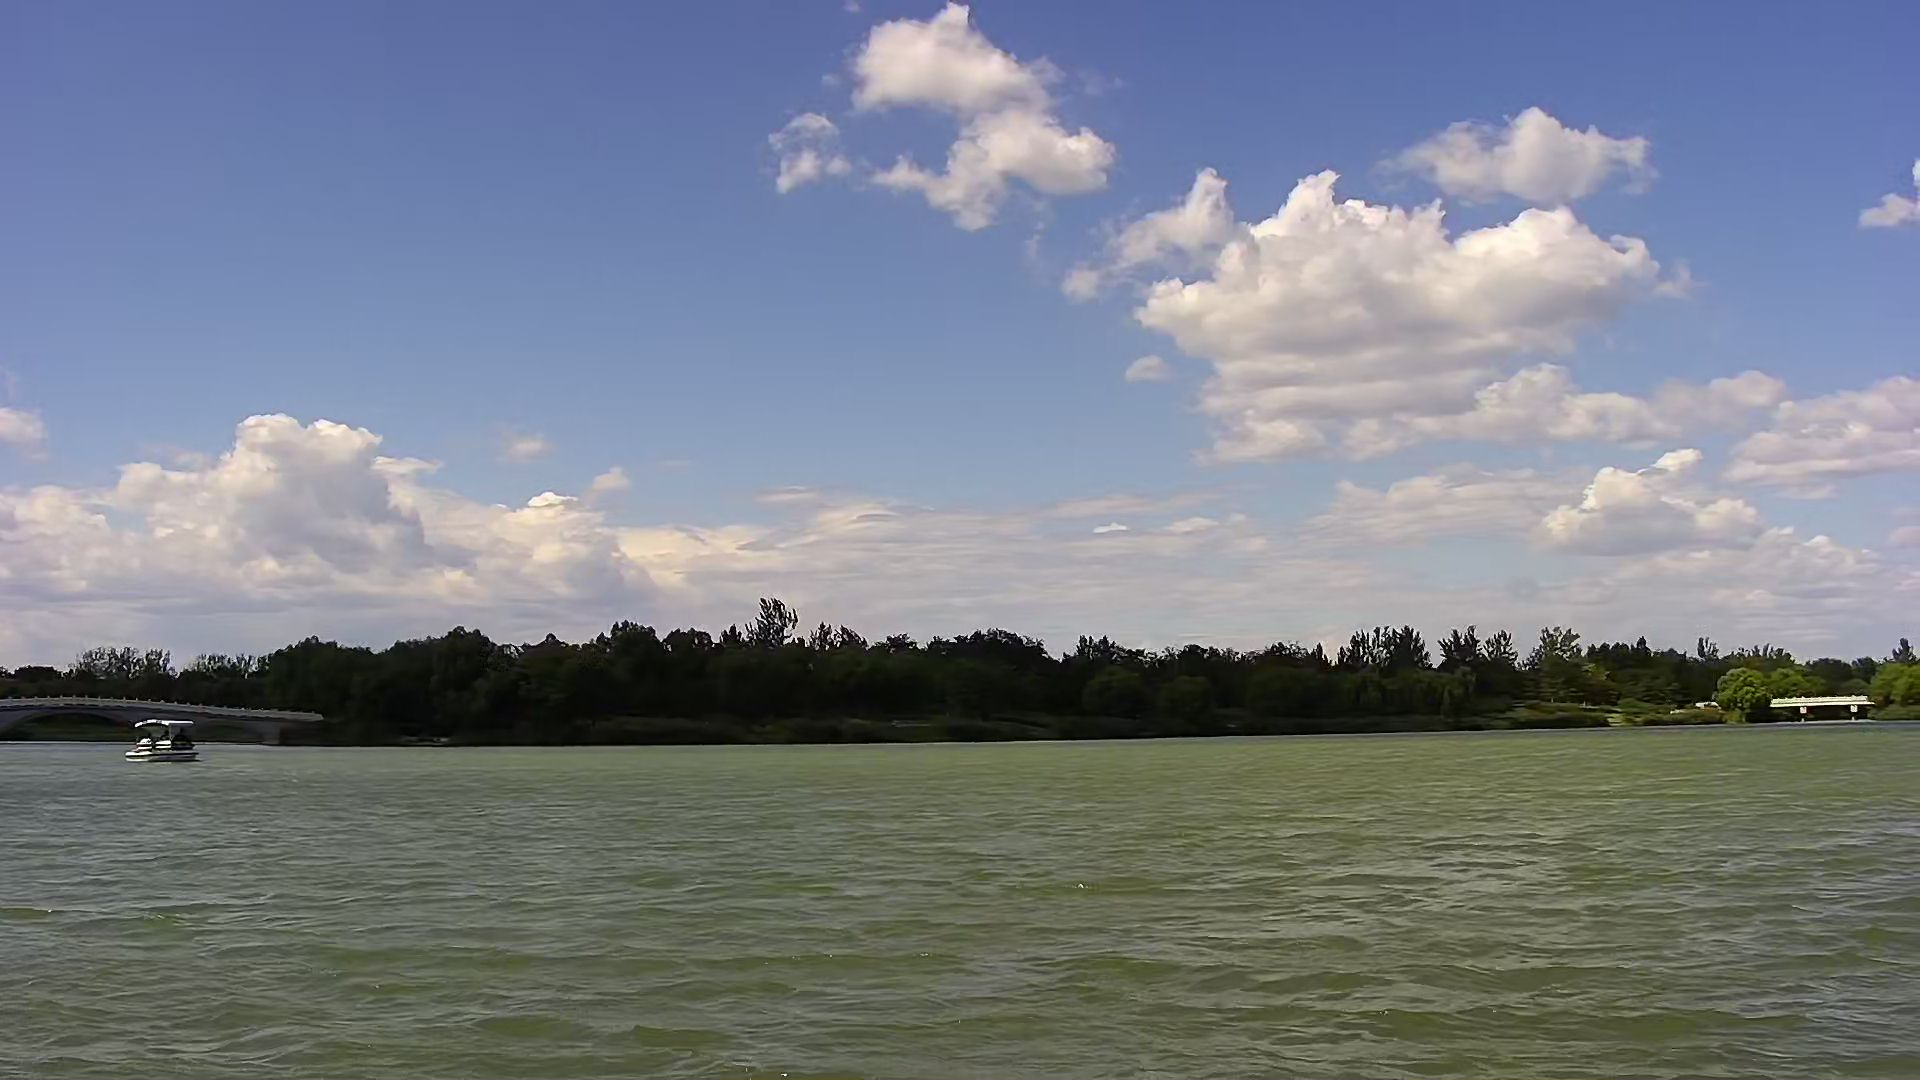boat: (123, 711, 204, 771)
bridge: (1, 686, 315, 746), (1766, 690, 1879, 727)
